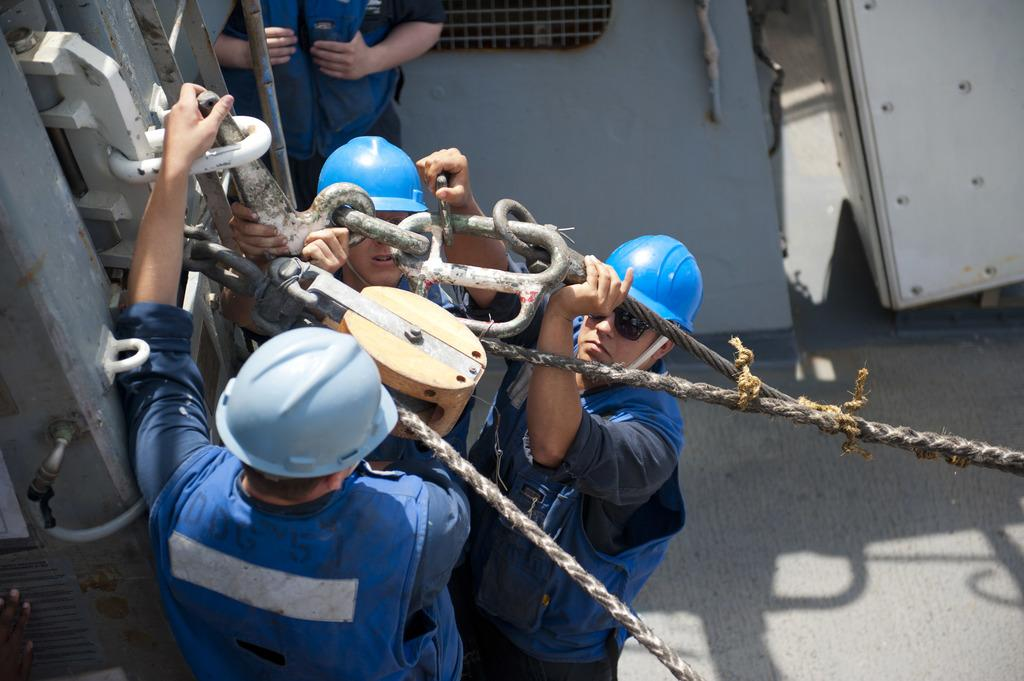helmet: (215, 327, 398, 497), (578, 234, 704, 373), (317, 136, 429, 285)
